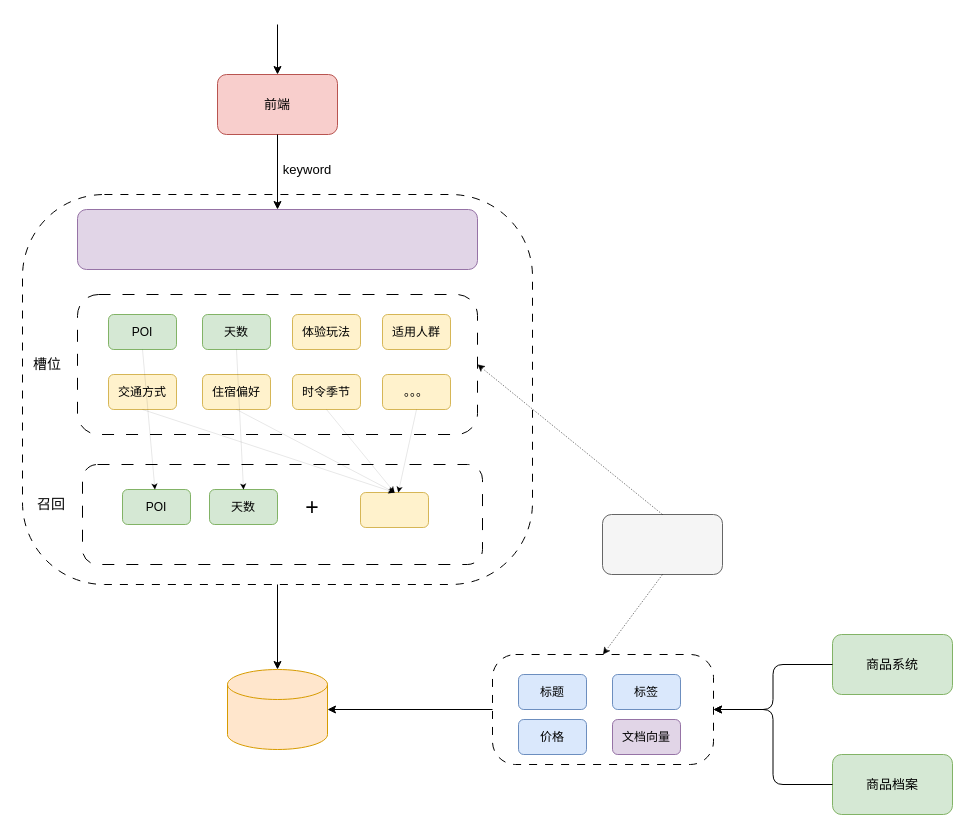
This 970x832 diagram has some shape labels left out. Here are the shapes that lost their labels. From the top down, the centre of each, then its label:
point 277,239: llmAnalyze
point 394,510: Query 向量
point 662,544: bge-m3
point 277,709: ES
